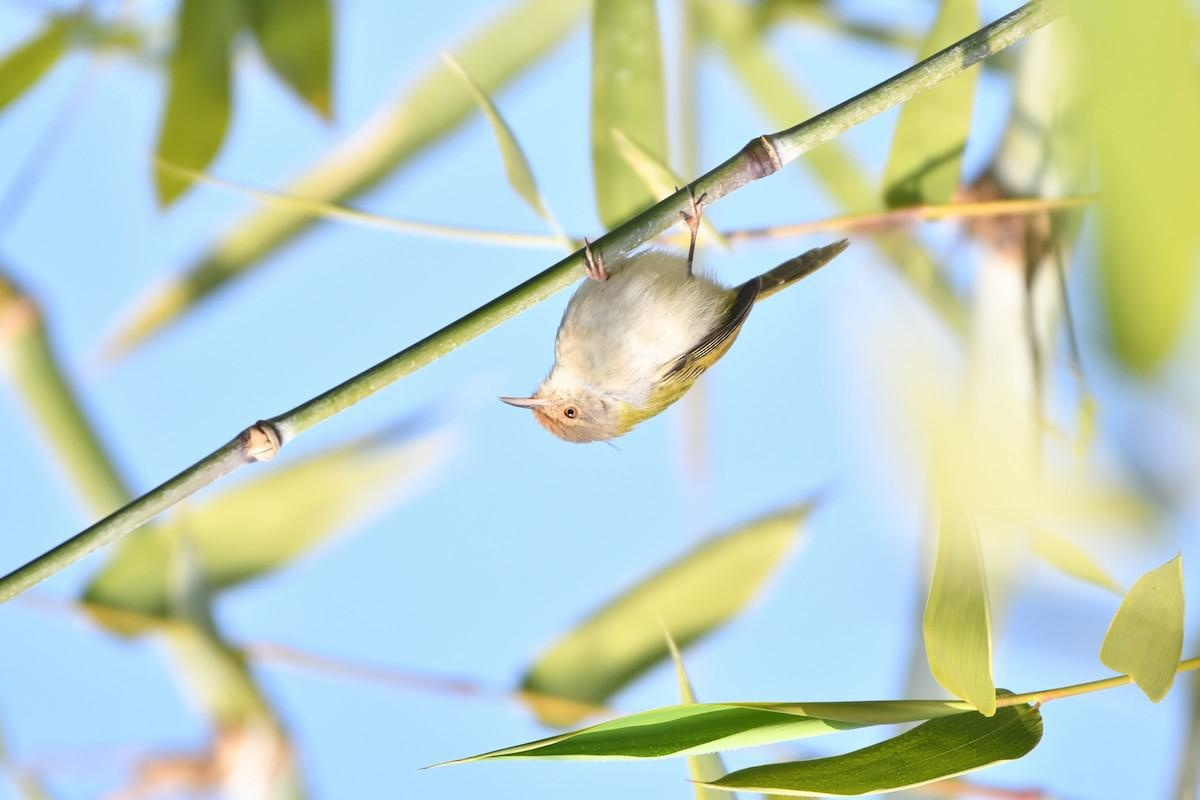tailorbird: (483, 108, 838, 474)
